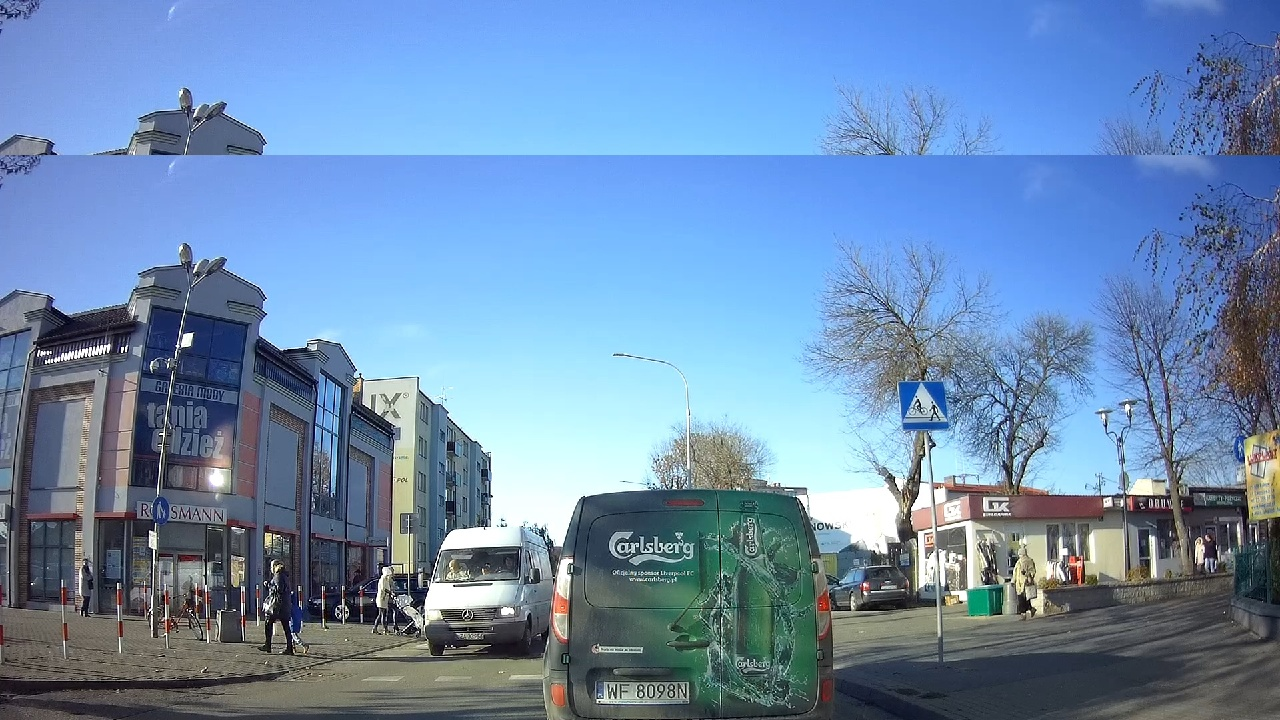D6b: (897, 379, 949, 430)
